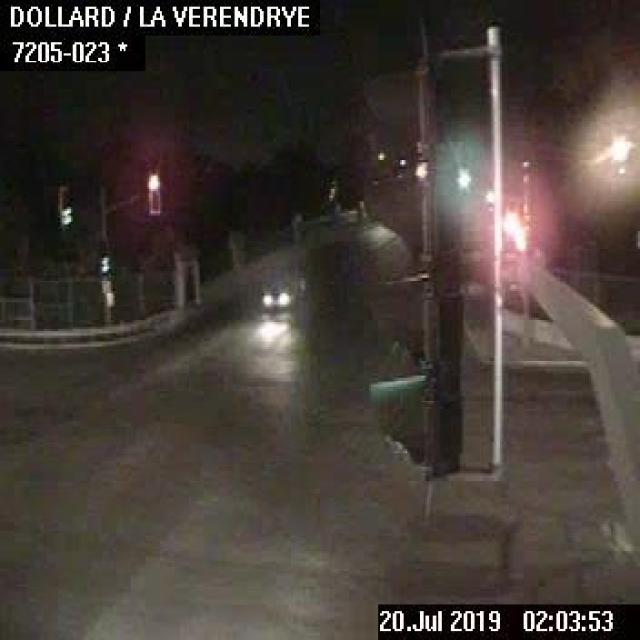vehicle: (258, 273, 304, 309)
